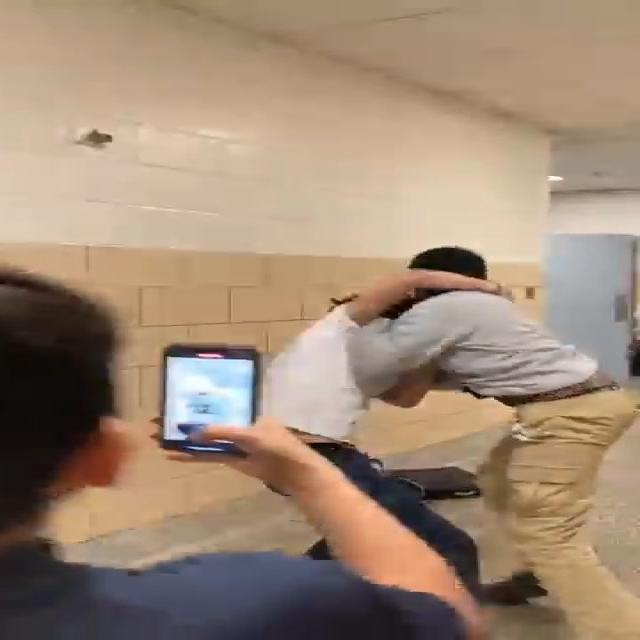fight: (272, 233, 614, 624)
